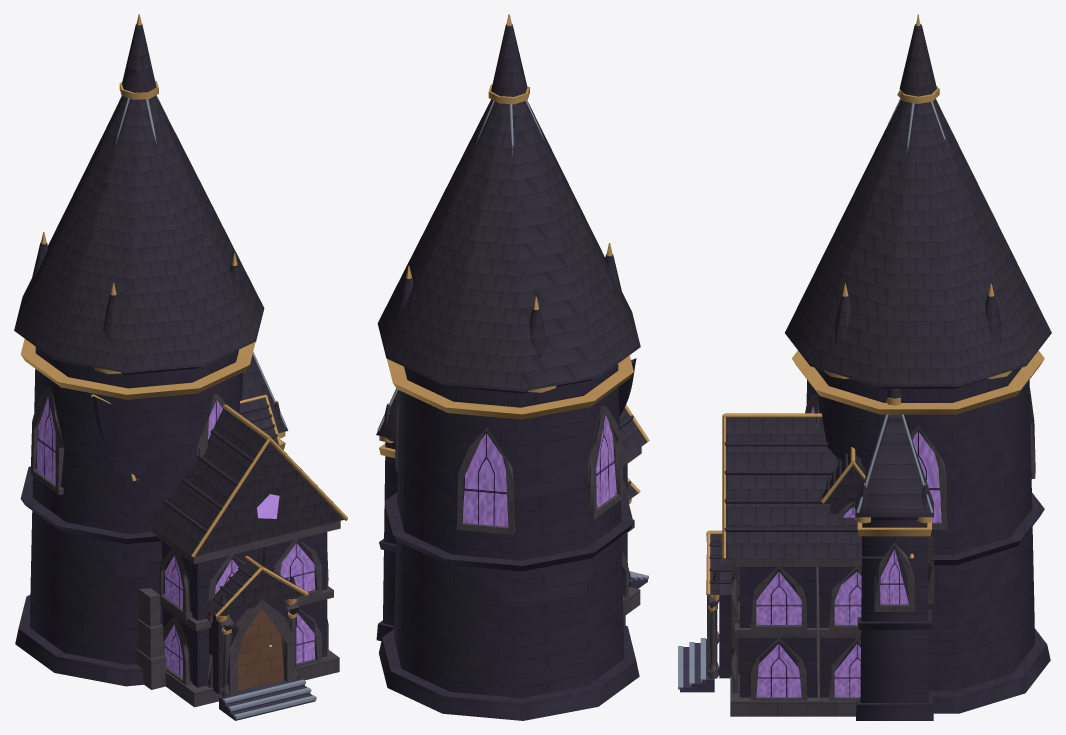
File: violetspire-tower-distant.glb
The picture shows the model from 3 angles, left to right: view 1: azimuth 30°, elevation 25°; view 2: azimuth 150°, elevation 25°; view 3: azimuth 270°, elevation 25°; orthographic projection. The views are drawn at different scales.
Size of the model in its own units: 5.07 by 13.32 by 6.99.
11 materials, 11 textured.
